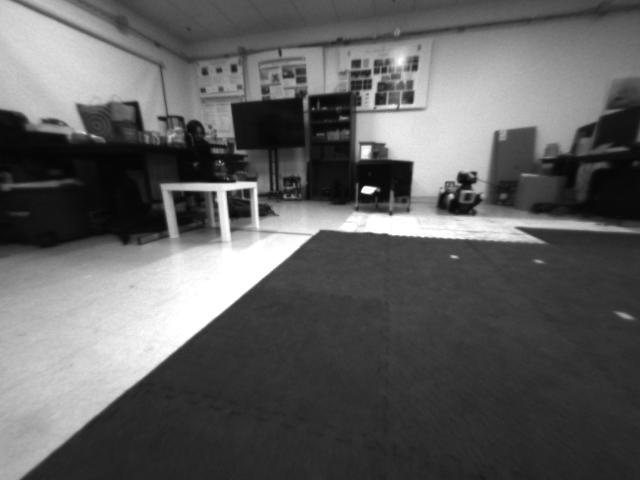coffee_pot: (196, 140, 235, 181)
